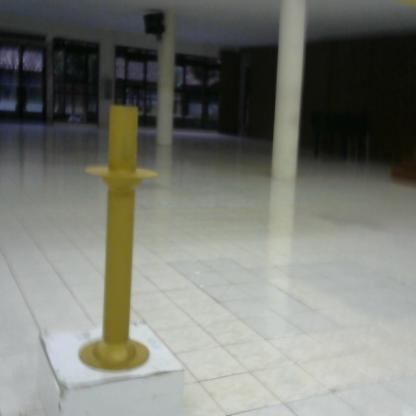pole: (77, 97, 164, 372)
